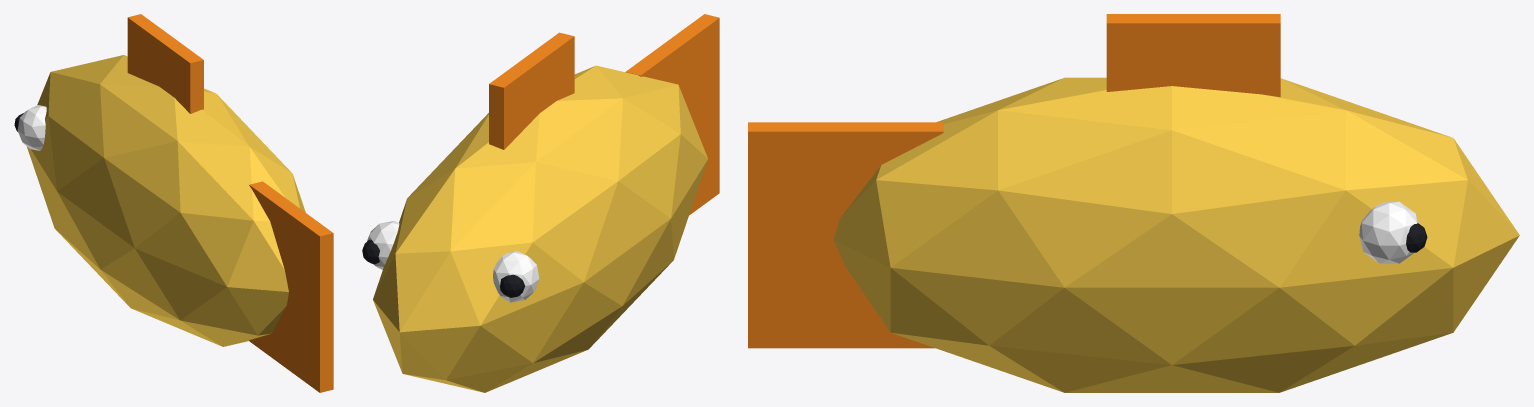
Rendered from Scuba_FishYellow.fbx.
3 views of the same model, side by side, from view 1: azimuth 30°, elevation 25°; view 2: azimuth 150°, elevation 25°; view 3: azimuth 270°, elevation 25° (orthographic). The views are drawn at different scales.
Parts seen in each view (by area): view 1: FishYellow; view 2: FishYellow; view 3: FishYellow.
Boxes of the visible parts, x1=… form: FishYellow: x1=14, y1=14, x2=333, y2=392; FishYellow: x1=362, y1=14, x2=719, y2=392; FishYellow: x1=748, y1=14, x2=1519, y2=392.
Bounding box in the file's own units: 0.2283 × 0.38 × 0.71.
